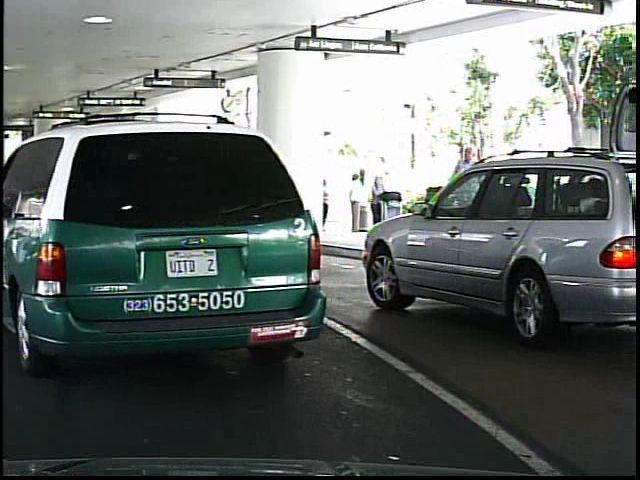person: (443, 140, 488, 267), (363, 170, 393, 241)
